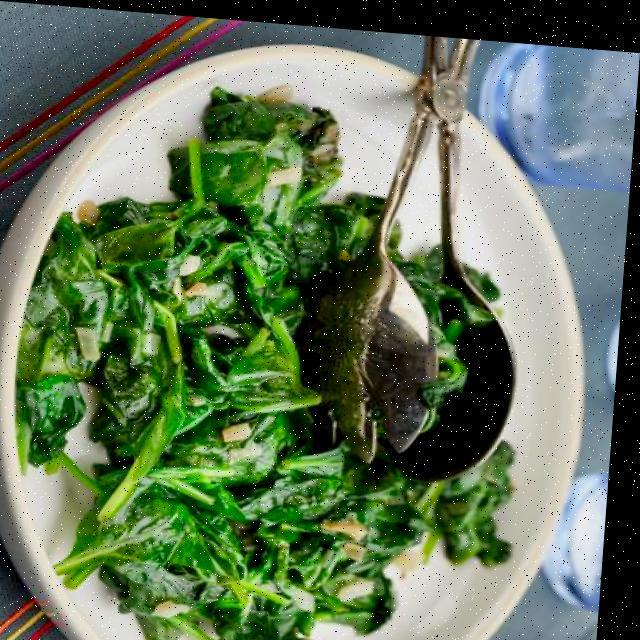Spinach: (7, 48, 556, 640)
